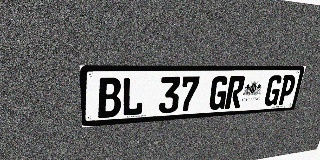3: (158, 77, 181, 114)
7: (178, 76, 200, 112)
B: (97, 77, 121, 118)
G: (208, 76, 230, 110), (263, 75, 284, 106)
L: (121, 77, 144, 116)
P: (277, 75, 297, 105)
R: (224, 76, 246, 109)
